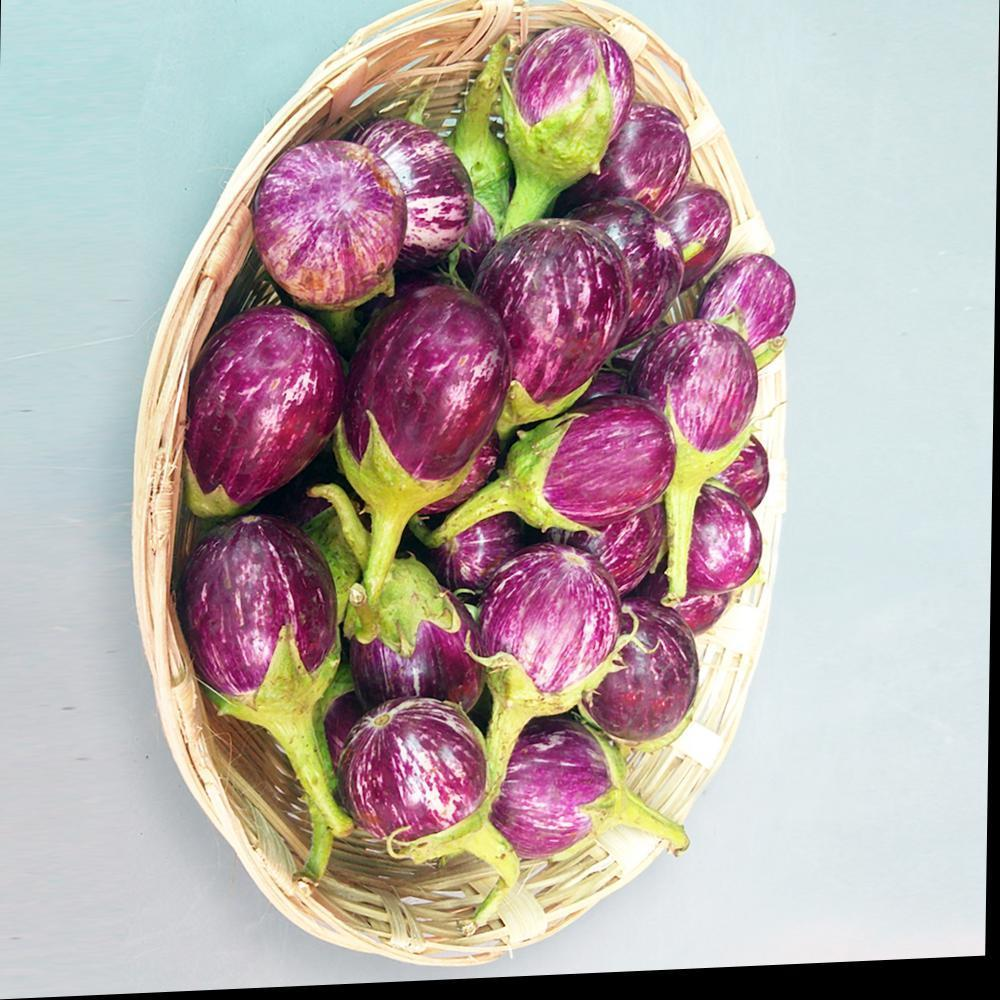eggplant: (266, 154, 719, 826)
